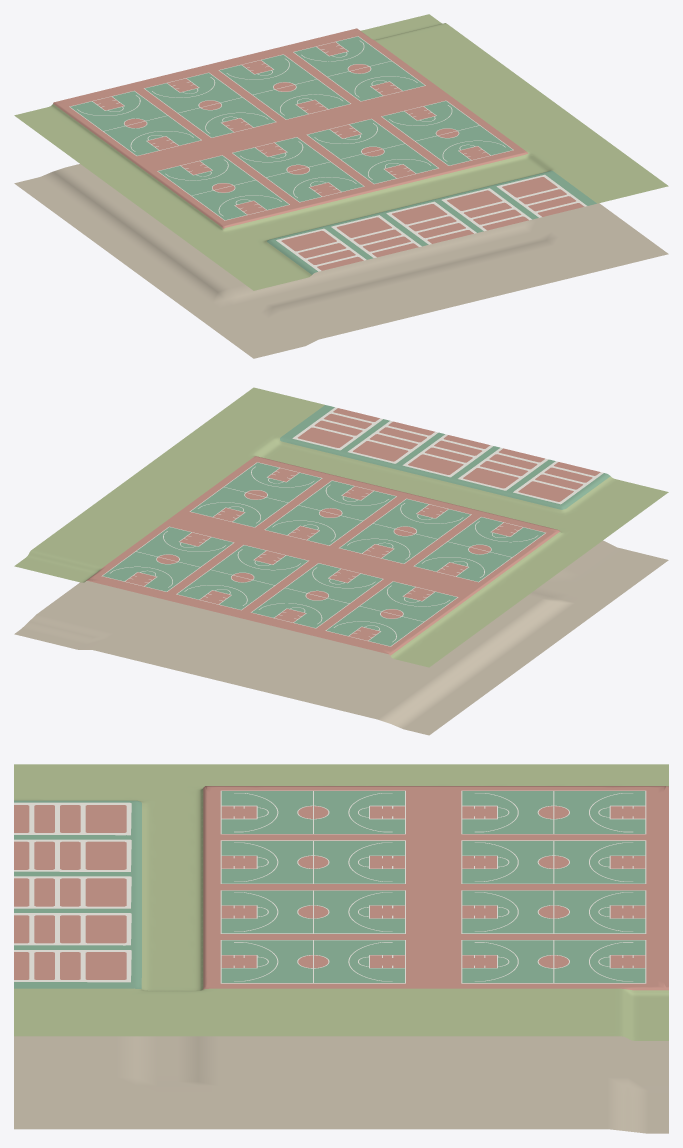
3 views of the same model, one above another, from view 1: azimuth 30°, elevation 25°; view 2: azimuth 150°, elevation 25°; view 3: azimuth 270°, elevation 25° (orthographic). The views are drawn at different scales.
Visible parts, largest first — view 1: s_-3_-5__soil, s_-3_-5__grass, s_-3_-5__green_court, s_-3_-5__red_court, s_-3_-5__white_marking; view 2: s_-3_-5__soil, s_-3_-5__grass, s_-3_-5__green_court, s_-3_-5__red_court, s_-3_-5__white_marking; view 3: s_-3_-5__soil, s_-3_-5__grass, s_-3_-5__green_court, s_-3_-5__red_court, s_-3_-5__white_marking.
Part boxes in pixels (<box>): s_-3_-5__soil: <box>14,164,668,358</box>; s_-3_-5__grass: <box>14,14,668,290</box>; s_-3_-5__green_court: <box>70,36,596,274</box>; s_-3_-5__red_court: <box>53,28,584,270</box>; s_-3_-5__white_marking: <box>69,36,586,271</box>; s_-3_-5__soil: <box>14,540,668,735</box>; s_-3_-5__grass: <box>14,387,668,667</box>; s_-3_-5__green_court: <box>103,405,610,646</box>; s_-3_-5__red_court: <box>86,408,600,655</box>; s_-3_-5__white_marking: <box>101,407,603,646</box>; s_-3_-5__soil: <box>14,1036,668,1133</box>; s_-3_-5__grass: <box>14,764,668,1040</box>; s_-3_-5__green_court: <box>14,791,645,989</box>; s_-3_-5__red_court: <box>14,786,668,990</box>; s_-3_-5__white_marking: <box>14,790,646,983</box>.
Bounding box in the file's own units: 128 × 21.01 × 128.
